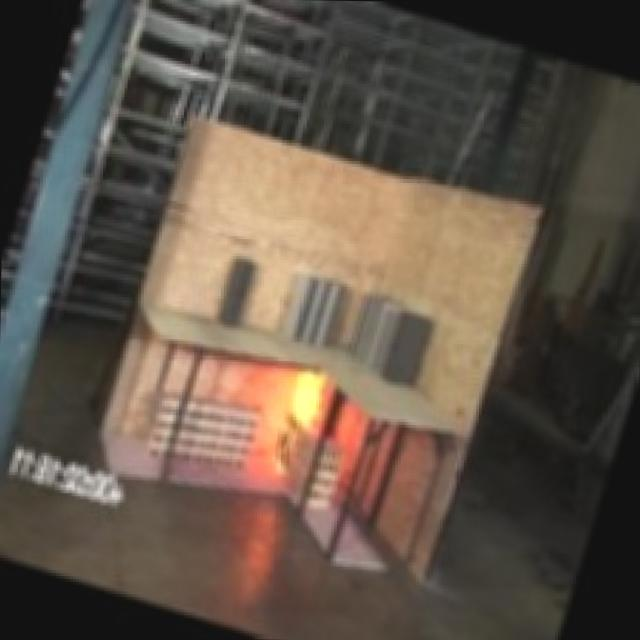fire: (243, 346, 345, 468)
